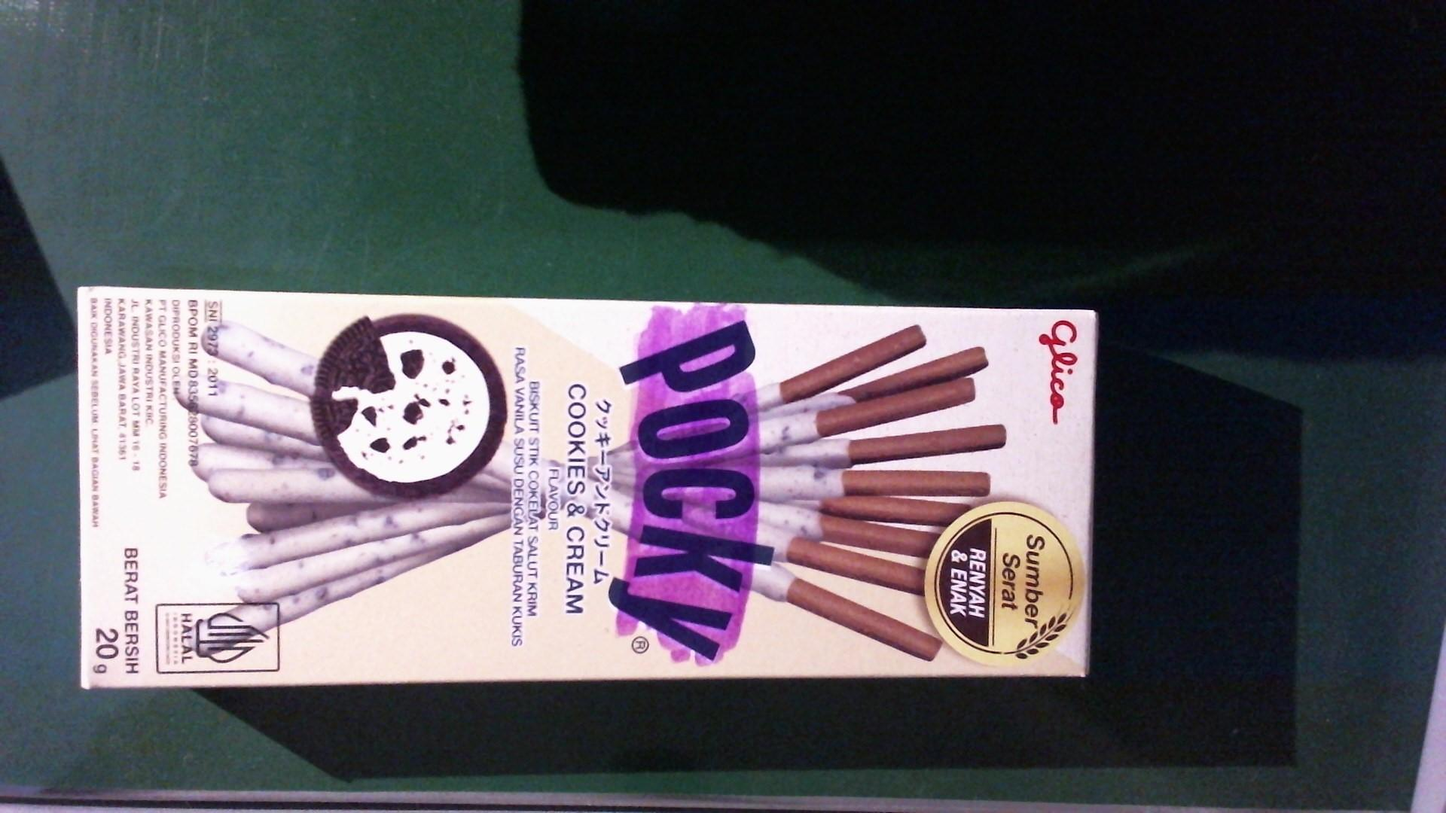Kertas: (72, 284, 1096, 683)
